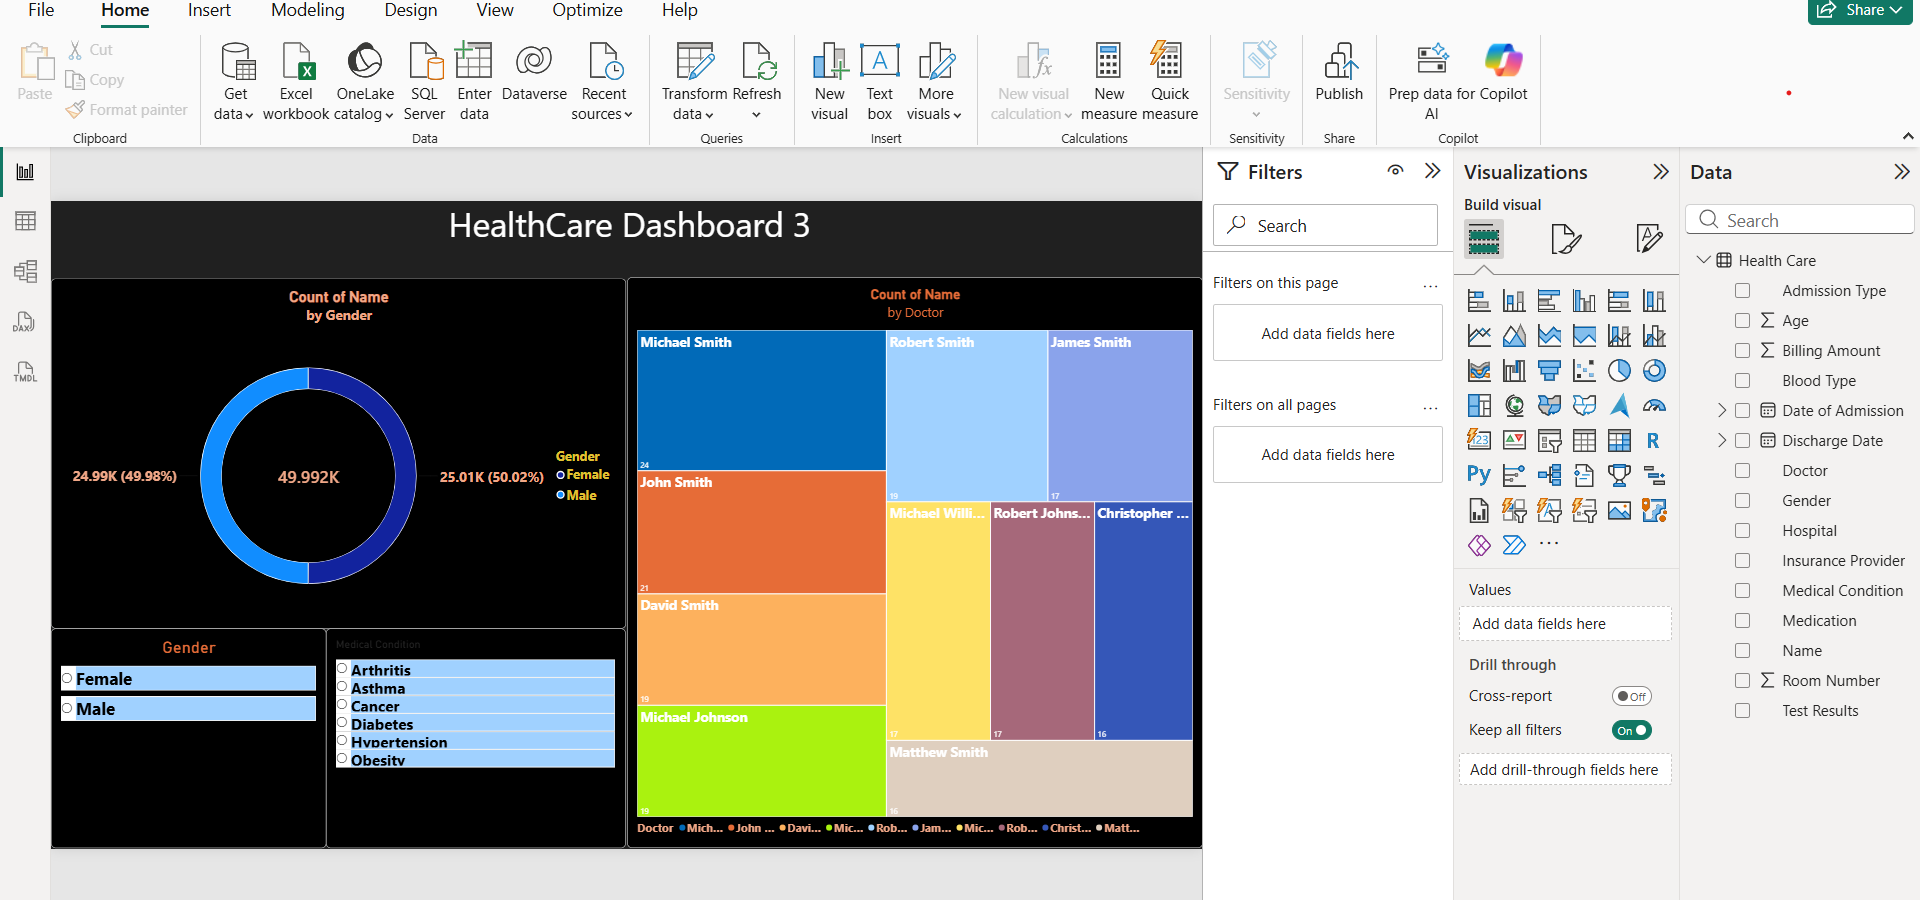

Layout of this report page (visuals, bound fields, positions):
{"tool":"powerbi","page":{"name":"Health Care Dahboard 3","canvas":[1920,1080],"ordinal":2},"visuals":[{"type":"textbox","box":[10.3,0,1910.1,127.6],"z":0},{"type":"donutChart","fields":{"Category":["Health Care.Gender"],"Y":["CountNonNull(Health Care.Name)"]},"box":[0,128.6,959.2,583.9],"z":1000},{"type":"treemap","fields":{"Group":["Health Care.Doctor"],"Values":["CountNonNull(Health Care.Name)"]},"box":[960.2,127.9,960.2,951.8],"z":2000},{"type":"listSlicer","fields":{"Values":["Health Care.Gender"]},"box":[0,712.5,459.6,366.8],"z":3000},{"type":"listSlicer","fields":{"Values":["Health Care.Medical Condition"]},"box":[459.6,712.5,499.6,366.8],"z":3001}]}

Visuals, with their boxes on the page's 1920x1080 design canvas (x1, y1, x2, y2). These are canvas units, not pixel positions in the 1920x900 screenshot, which may show the page scaled, cropped or inside an application window:
textbox: <bbox>10, 0, 1920, 128</bbox>
donutChart - Health Care.Gender x CountNonNull(Health Care.Name): <bbox>0, 129, 959, 712</bbox>
treemap - Health Care.Doctor x CountNonNull(Health Care.Name): <bbox>960, 128, 1920, 1080</bbox>
listSlicer - Health Care.Gender: <bbox>0, 712, 460, 1079</bbox>
listSlicer - Health Care.Medical Condition: <bbox>460, 712, 959, 1079</bbox>
